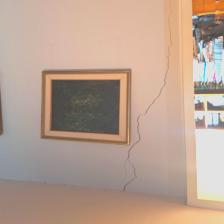Medium: (131, 37, 175, 186)
